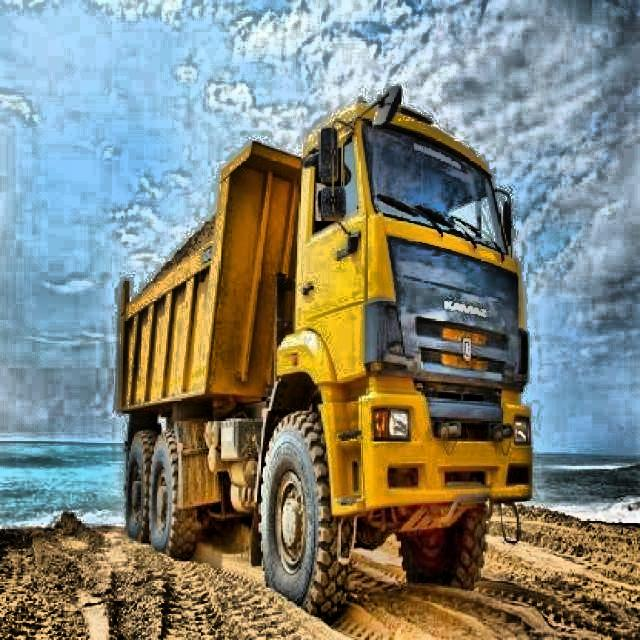dump_truck: (116, 81, 536, 614)
